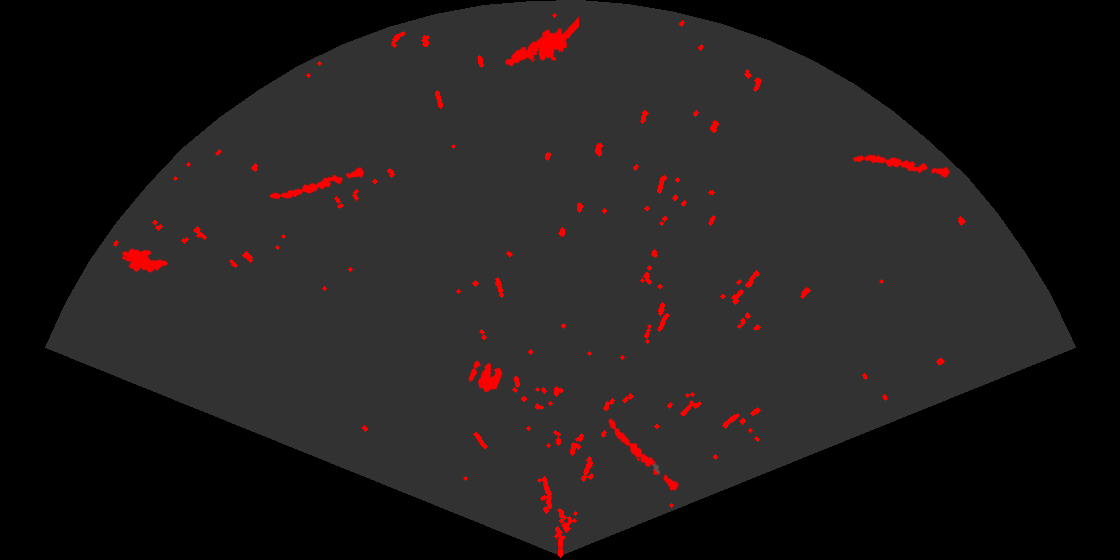AUV: (120, 247, 170, 274)
ball: (467, 359, 504, 394)
chain: (607, 417, 680, 492), (268, 166, 366, 201), (851, 153, 952, 179)
frogman: (504, 15, 579, 68)
